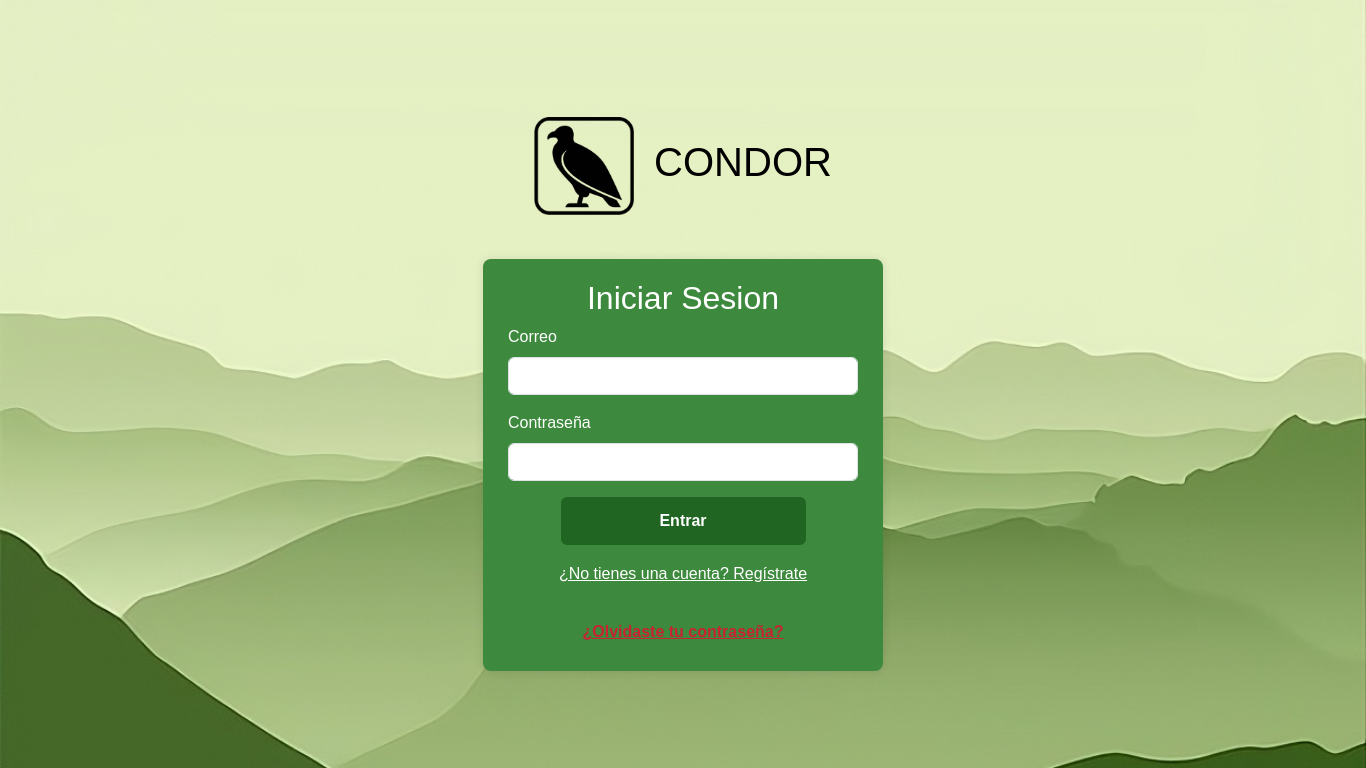
Test case: Login page › muestra un mensaje amigable cuando el backend rechaza las credenciales
In the field labelled "Correo": (683, 376) [508, 357, 858, 395], type "bad@condor.cl"
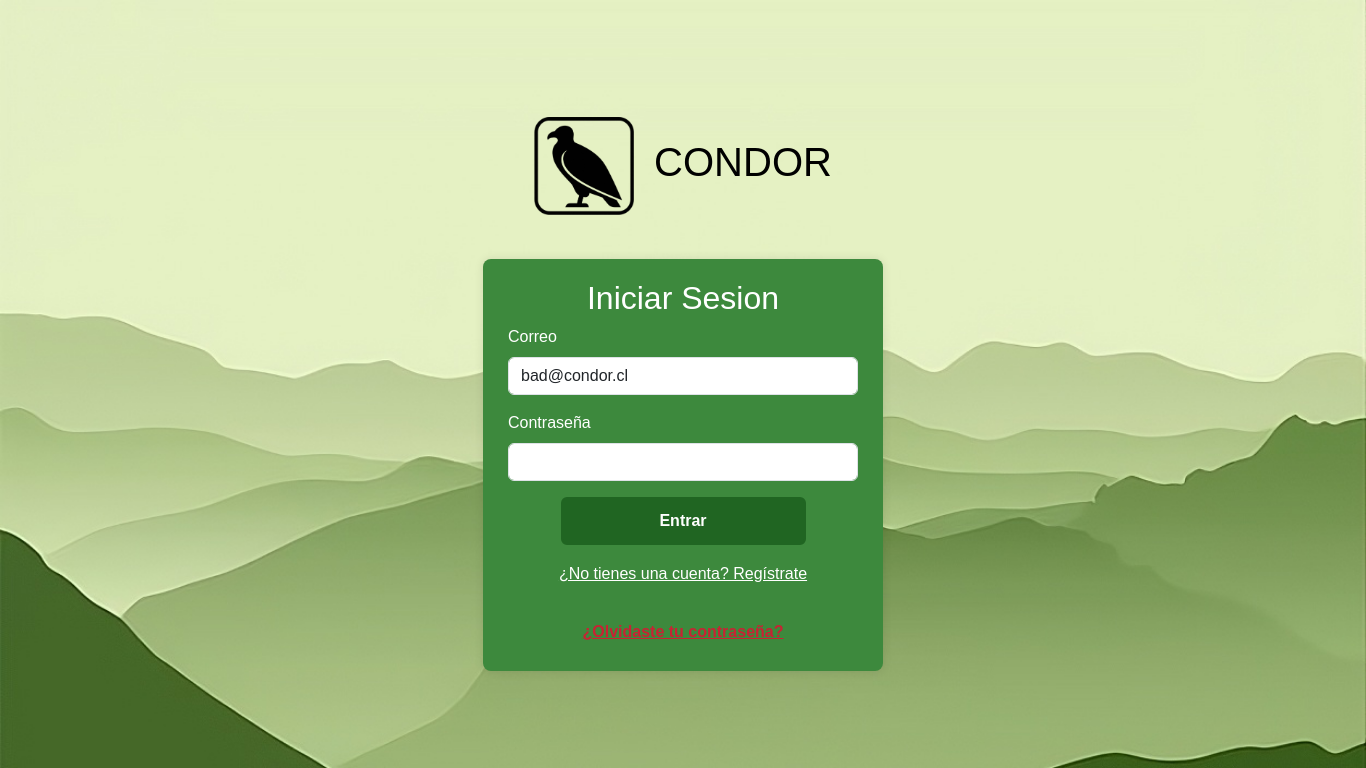
In the password field labelled "Contraseña": (683, 462) [508, 443, 858, 481], type "wrong"
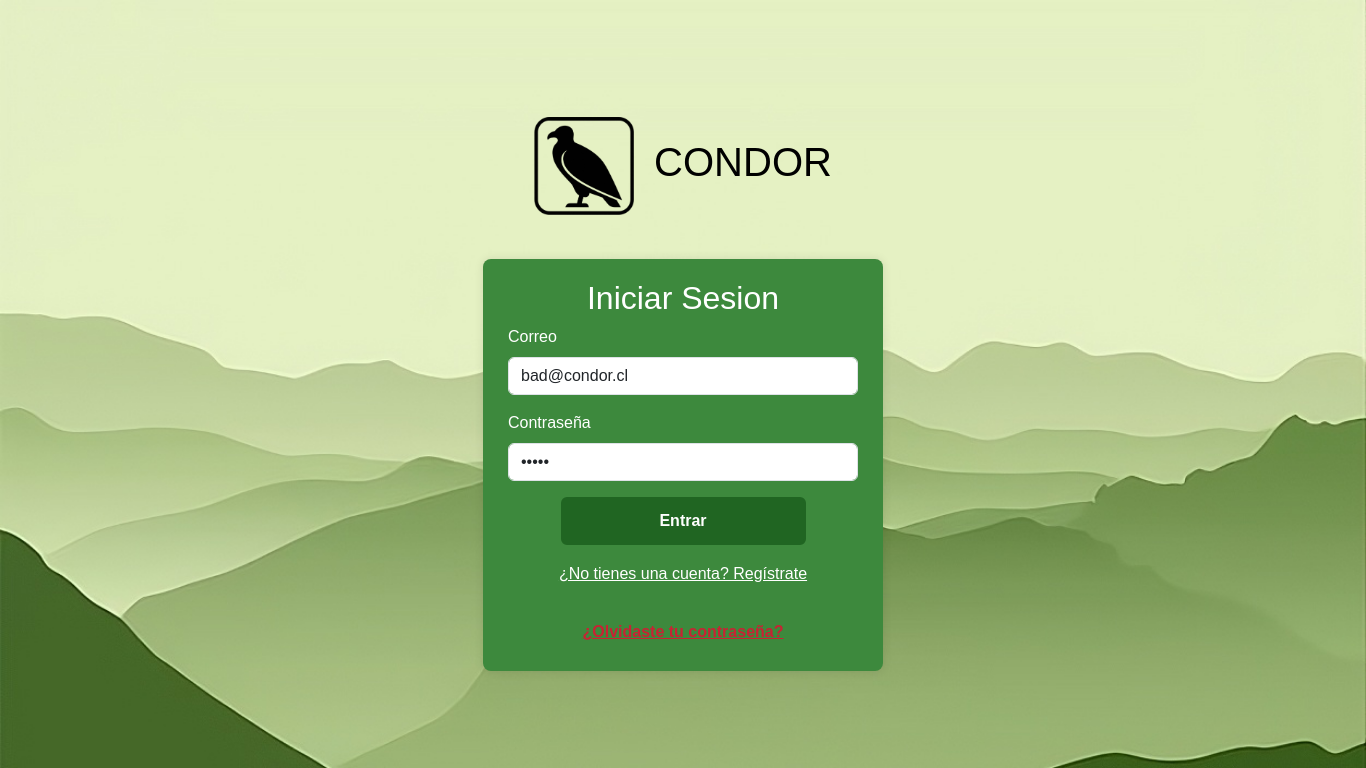
Click the button "Entrar": (683, 521) [560, 497, 806, 545]
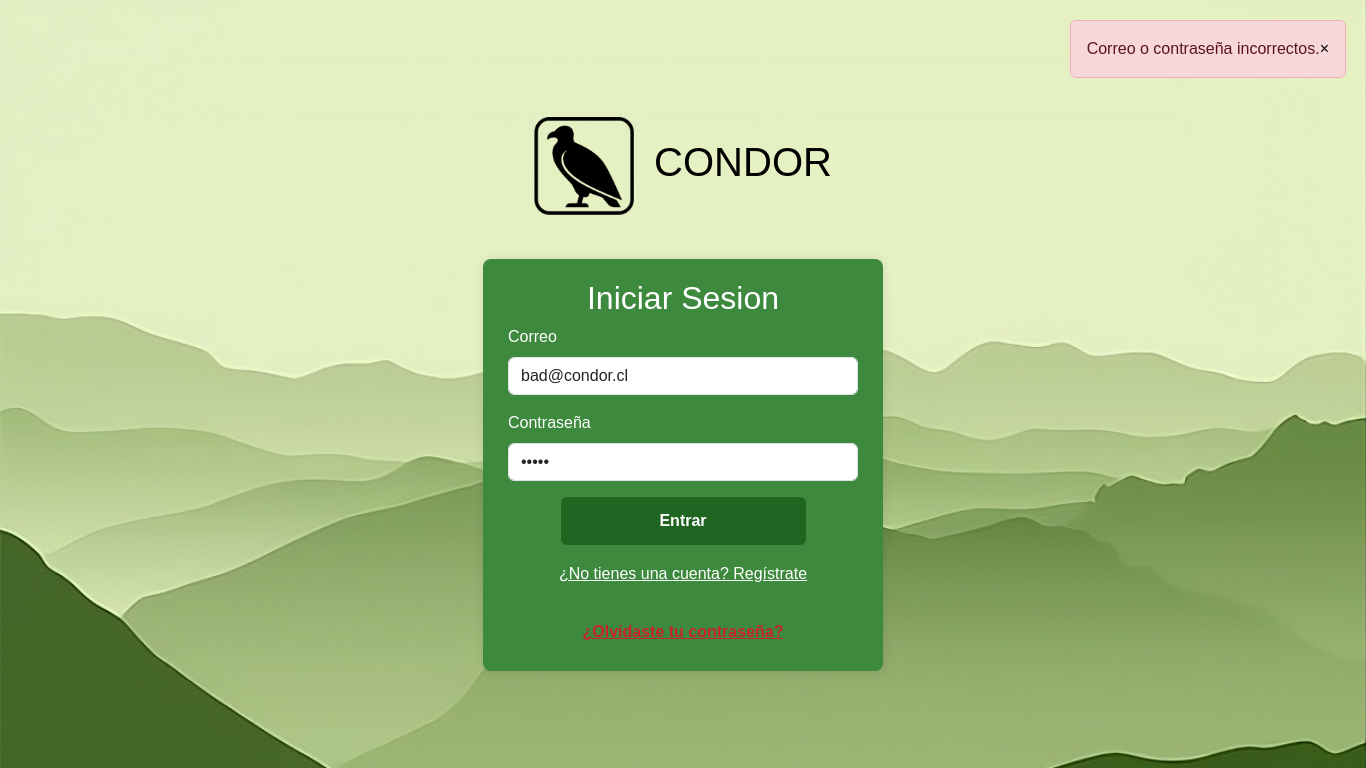
Check: the text "Correo o contraseña incorrectos. ×" is shown, box [1070, 20, 1346, 78]
